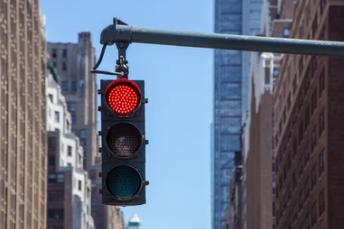red_light: (98, 78, 150, 207)
